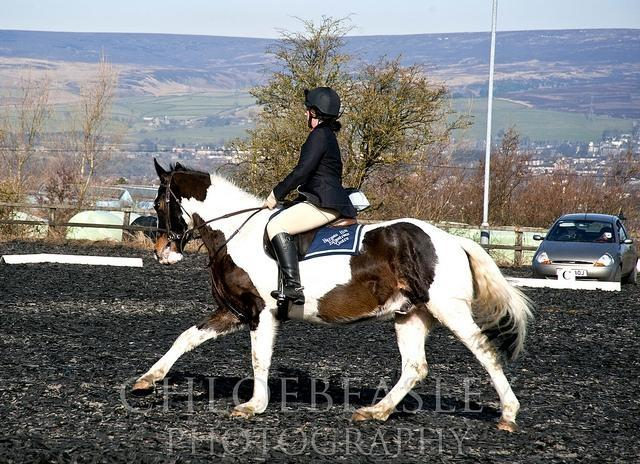car: (532, 212, 638, 283)
